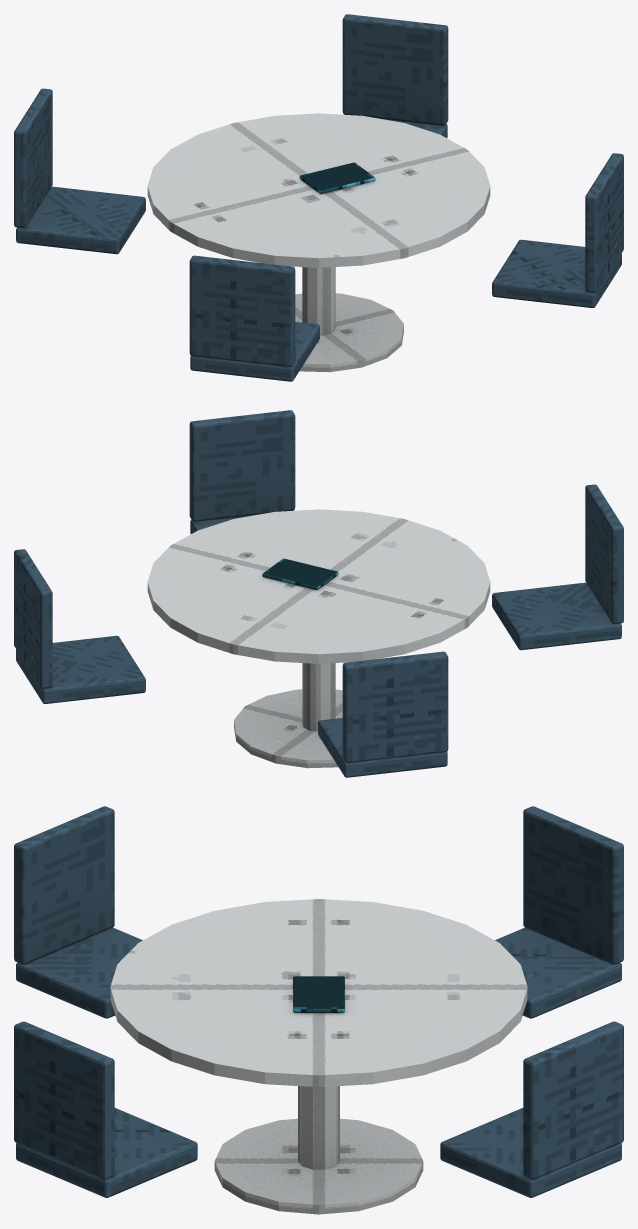
The model's file is base_interview_table.glb.
The picture shows the model from 3 angles, top to bottom: view 1: azimuth 30°, elevation 25°; view 2: azimuth 150°, elevation 25°; view 3: azimuth 270°, elevation 25°; orthographic projection. The views are drawn at different scales.
Parts seen in each view (by area): view 1: base_interview_table; view 2: base_interview_table; view 3: base_interview_table.
Part boxes in pixels (x1,y1,x2,y2): base_interview_table: (14, 14, 623, 381); base_interview_table: (14, 410, 623, 777); base_interview_table: (14, 806, 623, 1214).
Size of the model in its own units: 2.34 by 1 by 2.34.
Materials: 3 (3 with a texture image).
